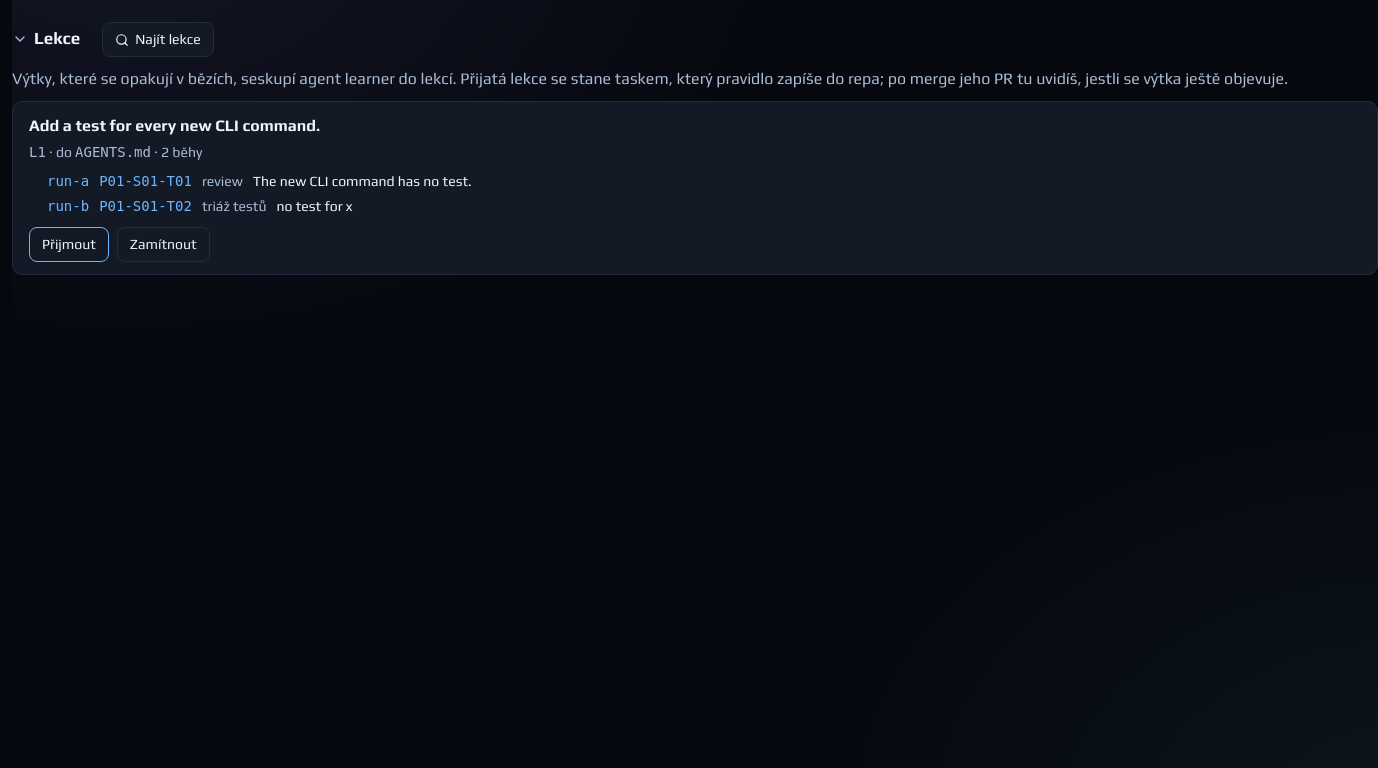
Test case: LessonsSection › accepts a lesson and shows the task
This screenshot has width=1378, height=768.
Click the button with test id "lesson-accept".
click(69, 244)  # box x1=29 y1=227 x2=109 y2=262
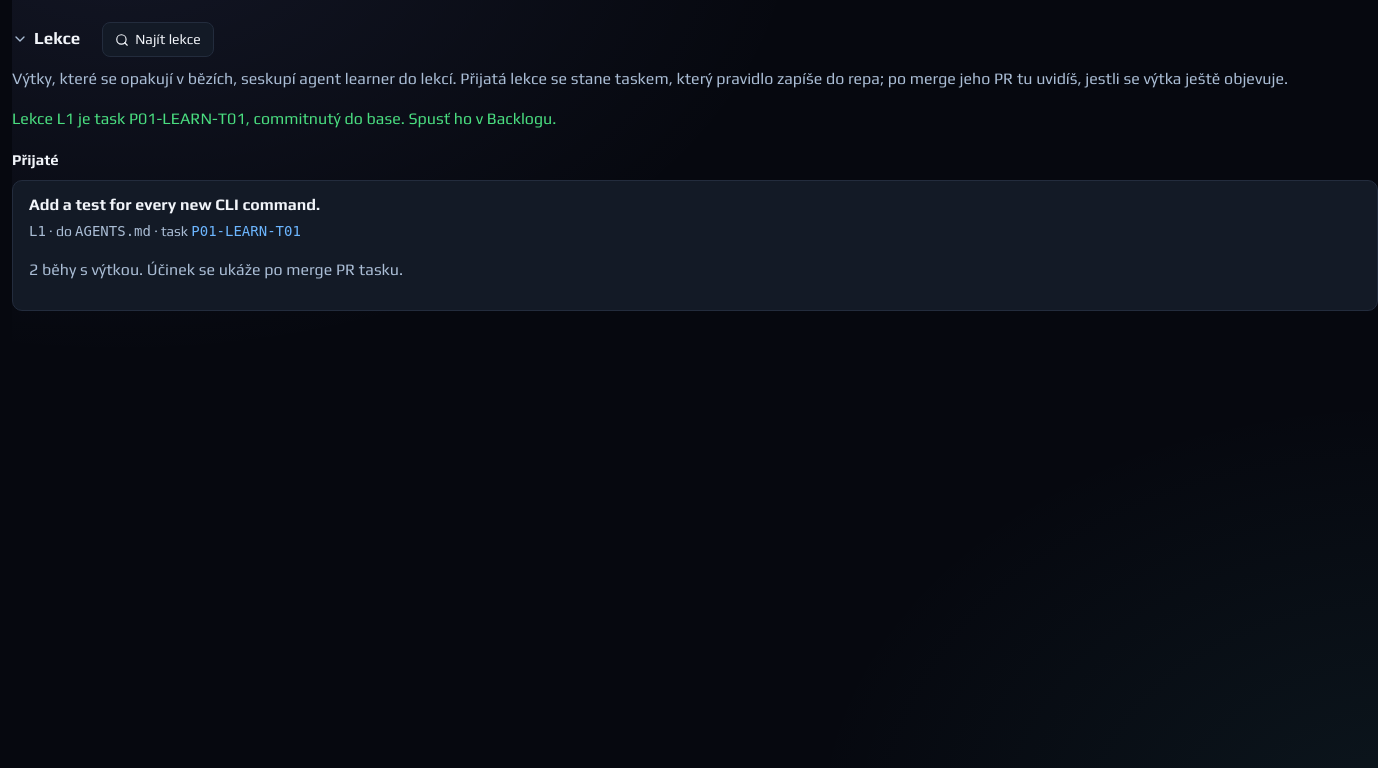
expect the text with test id "lessons-notice" shows "task P01-LEARN-T01, commitnutý do base": met, box x1=12 y1=109 x2=556 y2=128
expect the text with test id "lesson-waiting" shows "po merge PR": met, box x1=29 y1=260 x2=403 y2=278
